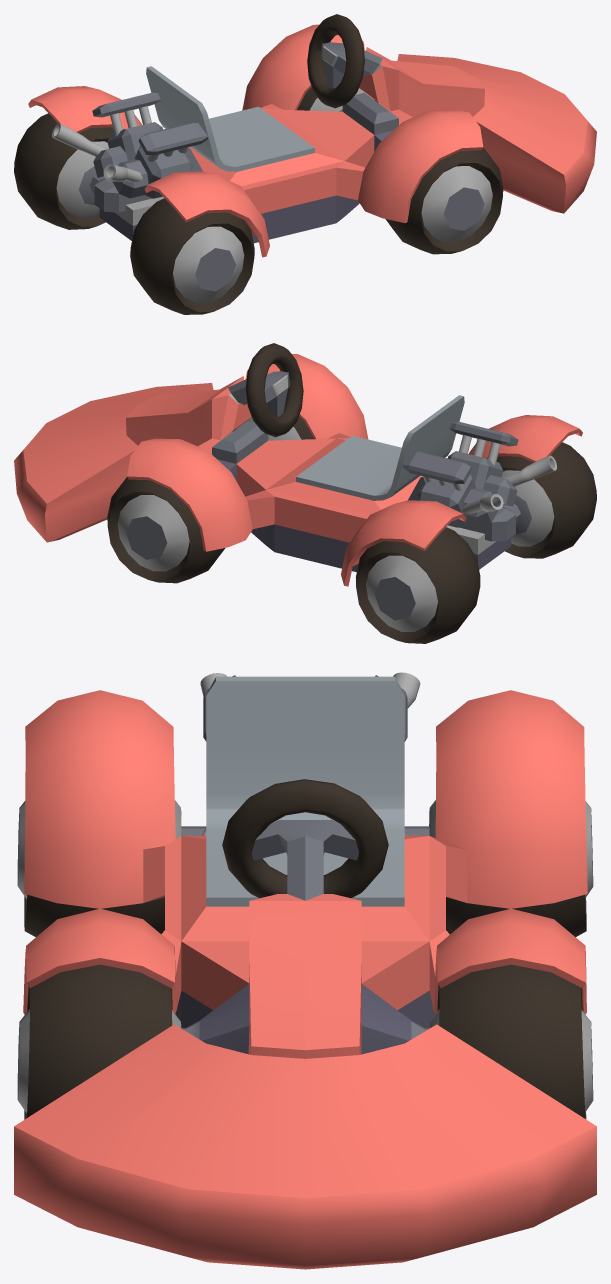
Rendered from Kart_002.fbx.
The picture shows the model from 3 angles, top to bottom: view 1: azimuth 30°, elevation 25°; view 2: azimuth 150°, elevation 25°; view 3: azimuth 270°, elevation 25°; orthographic projection. The views are drawn at different scales.
Visible parts, largest first — view 1: Kart_005; view 2: Kart_005; view 3: Kart_005.
Boxes of the visible parts, <box> form: Kart_005: <box>14,14,596,314</box>; Kart_005: <box>14,343,596,643</box>; Kart_005: <box>14,672,596,1269</box>.
Bounding box in the file's own units: 12.39 × 4.76 × 7.2.
